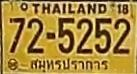2: (113, 17, 129, 53), (76, 18, 92, 52), (27, 18, 42, 52)
5: (94, 17, 111, 53), (57, 17, 74, 52)
7: (9, 17, 24, 52)
SPK: (28, 56, 111, 74)
